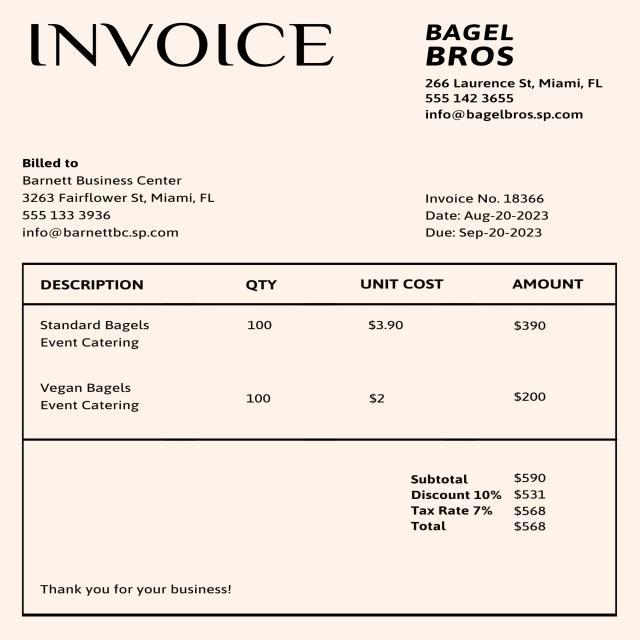customer_address: (19, 188, 222, 204)
customer_name: (21, 173, 186, 186)
due_date: (455, 224, 549, 240)
invoice_date: (461, 208, 553, 223)
invoice_number: (501, 188, 548, 204)
invoice_subtotal: (512, 469, 551, 484)
invoice_total: (509, 519, 549, 535)
item_description: (33, 317, 161, 417)
item_quantity: (235, 315, 278, 412)
item_total_price: (501, 315, 557, 410)
item_unit_price: (354, 313, 415, 413)
supplier_address: (421, 71, 612, 90)
supplier_name: (420, 18, 519, 72)
tax_amount: (510, 503, 550, 517)
